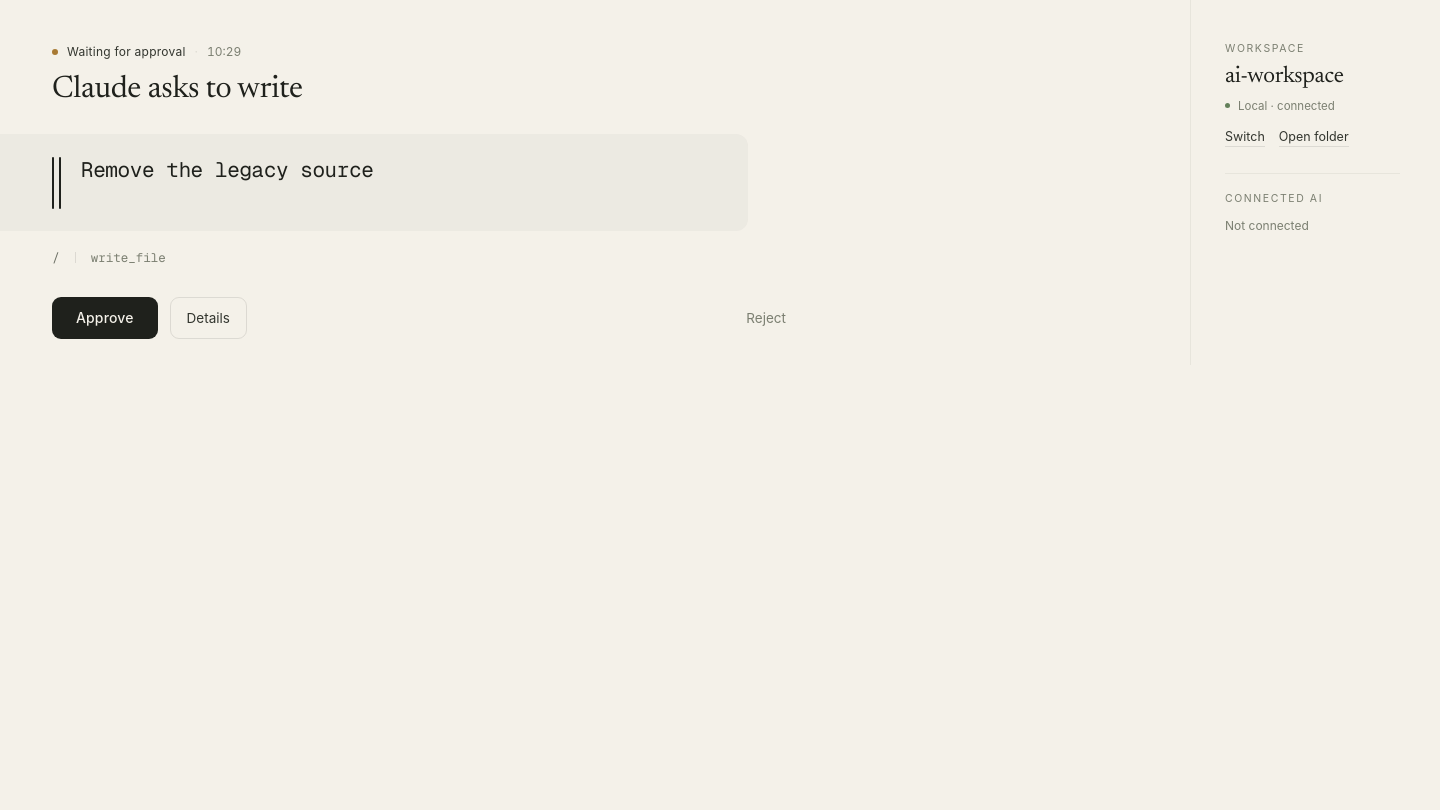
Test: what a change row has to say beyond its path › says a delete takes the whole tree
Click the button "Details": (208, 318) [170,297,247,339]
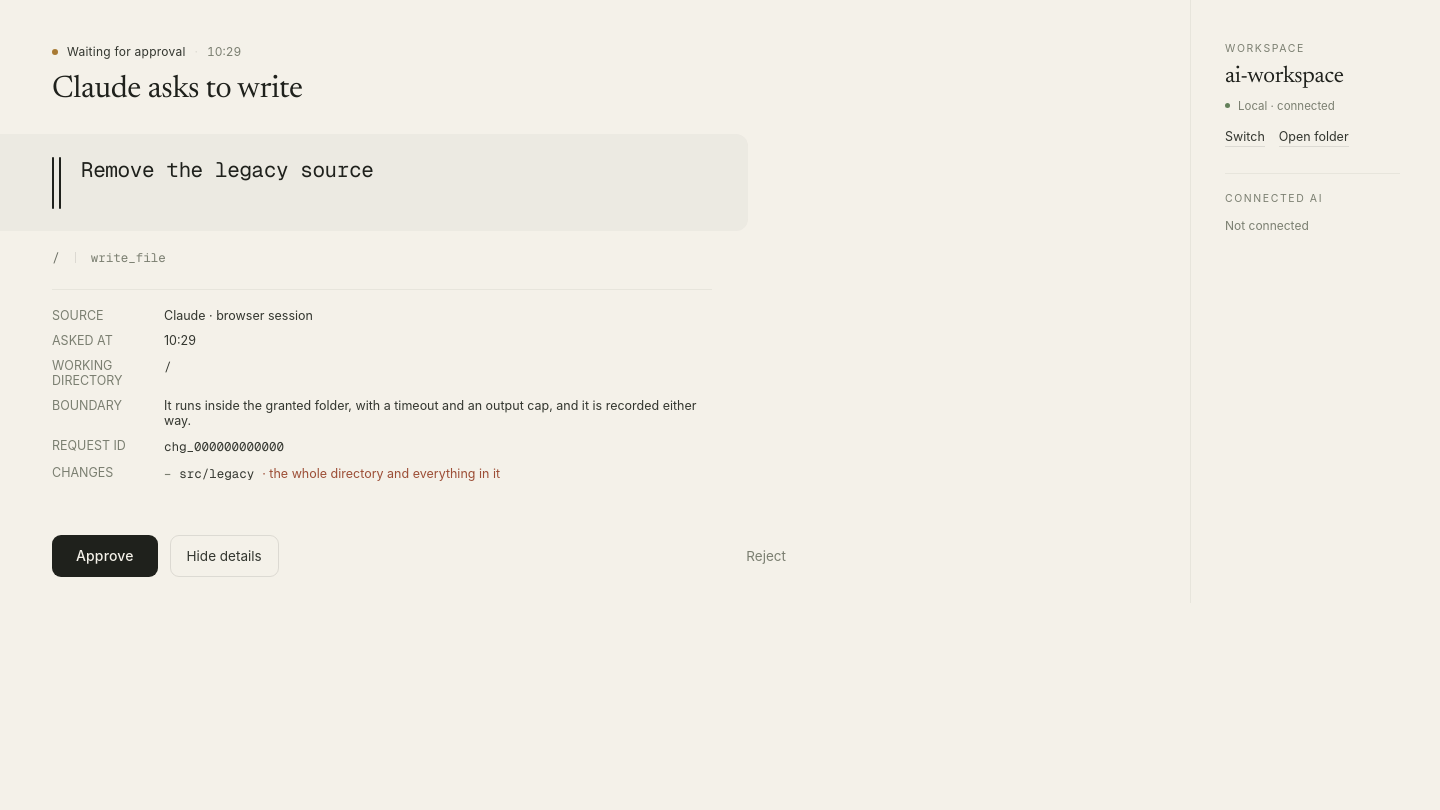
Expected: the text "src/legacy" is shown, [179,465,254,482]
Expected: the text "the whole directory and everything in it" is shown, [269,466,500,481]
